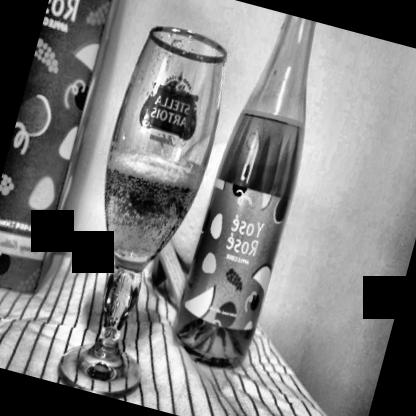yoserose: (175, 179, 291, 335)
